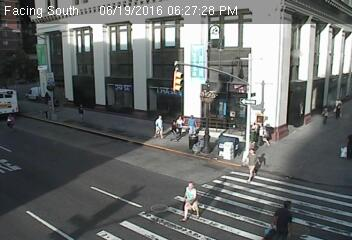neg: (188, 44, 221, 89), (103, 82, 130, 119), (236, 53, 261, 86), (148, 54, 170, 84), (70, 162, 92, 190), (282, 58, 297, 78)
pos: (173, 177, 205, 220), (272, 195, 304, 238), (237, 144, 263, 180), (143, 110, 168, 144), (164, 108, 187, 140), (328, 95, 348, 121), (184, 111, 203, 137), (315, 102, 332, 125), (335, 140, 351, 162), (70, 104, 85, 124)
